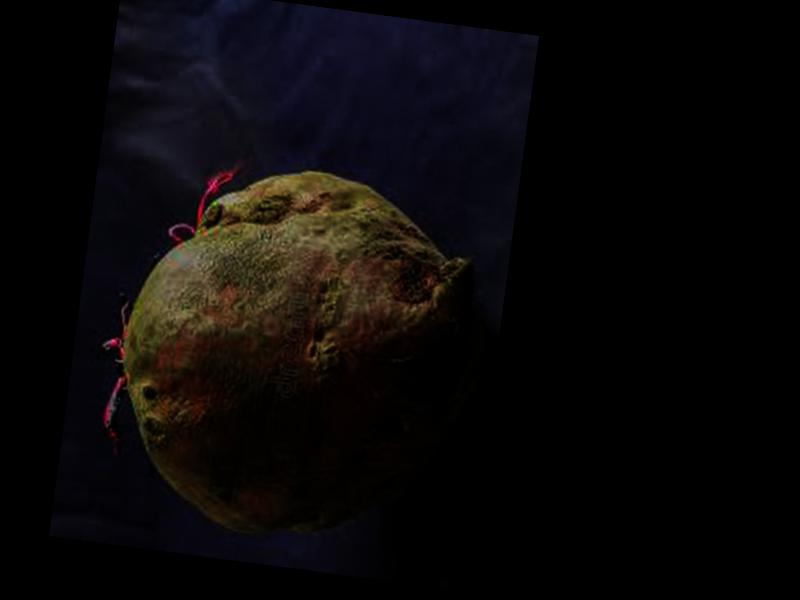Beet: (84, 147, 501, 557)
